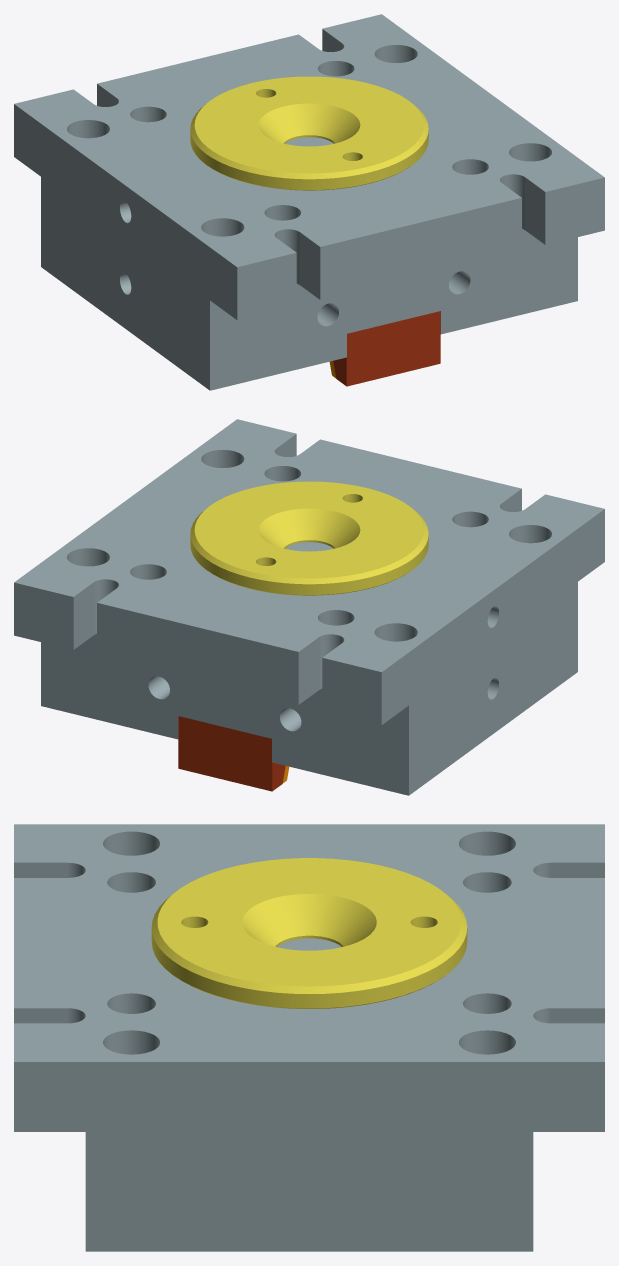
The model's file is mold-5.glb.
3 renders of one model, top to bottom at view 1: azimuth 30°, elevation 25°; view 2: azimuth 150°, elevation 25°; view 3: azimuth 270°, elevation 25°, orthographic. The views are drawn at different scales.
Visible parts, largest first — view 1: SOLID, SOLID001, 125_FLANS_x_t, SOLID034; view 2: SOLID, SOLID001, 125_FLANS_x_t, SOLID004; view 3: SOLID, SOLID001, 125_FLANS_x_t, E1605-12+56.
Boxes of the visible parts, x1=… form: SOLID: x1=14, y1=14, x2=604, y2=320; SOLID001: x1=41, y1=177, x2=577, y2=390; 125_FLANS_x_t: x1=190, y1=76, x2=428, y2=190; SOLID034: x1=333, y1=311, x2=440, y2=386; SOLID: x1=14, y1=419, x2=604, y2=725; SOLID001: x1=41, y1=582, x2=577, y2=795; 125_FLANS_x_t: x1=190, y1=481, x2=428, y2=595; SOLID004: x1=178, y1=716, x2=285, y2=791; SOLID: x1=14, y1=824, x2=604, y2=1131; SOLID001: x1=85, y1=1132, x2=533, y2=1251; 125_FLANS_x_t: x1=151, y1=858, x2=467, y2=1008; E1605-12+56: x1=277, y1=938, x2=341, y2=950.
Bounding box in the file's own units: 0.196 × 0.104 × 0.206.
